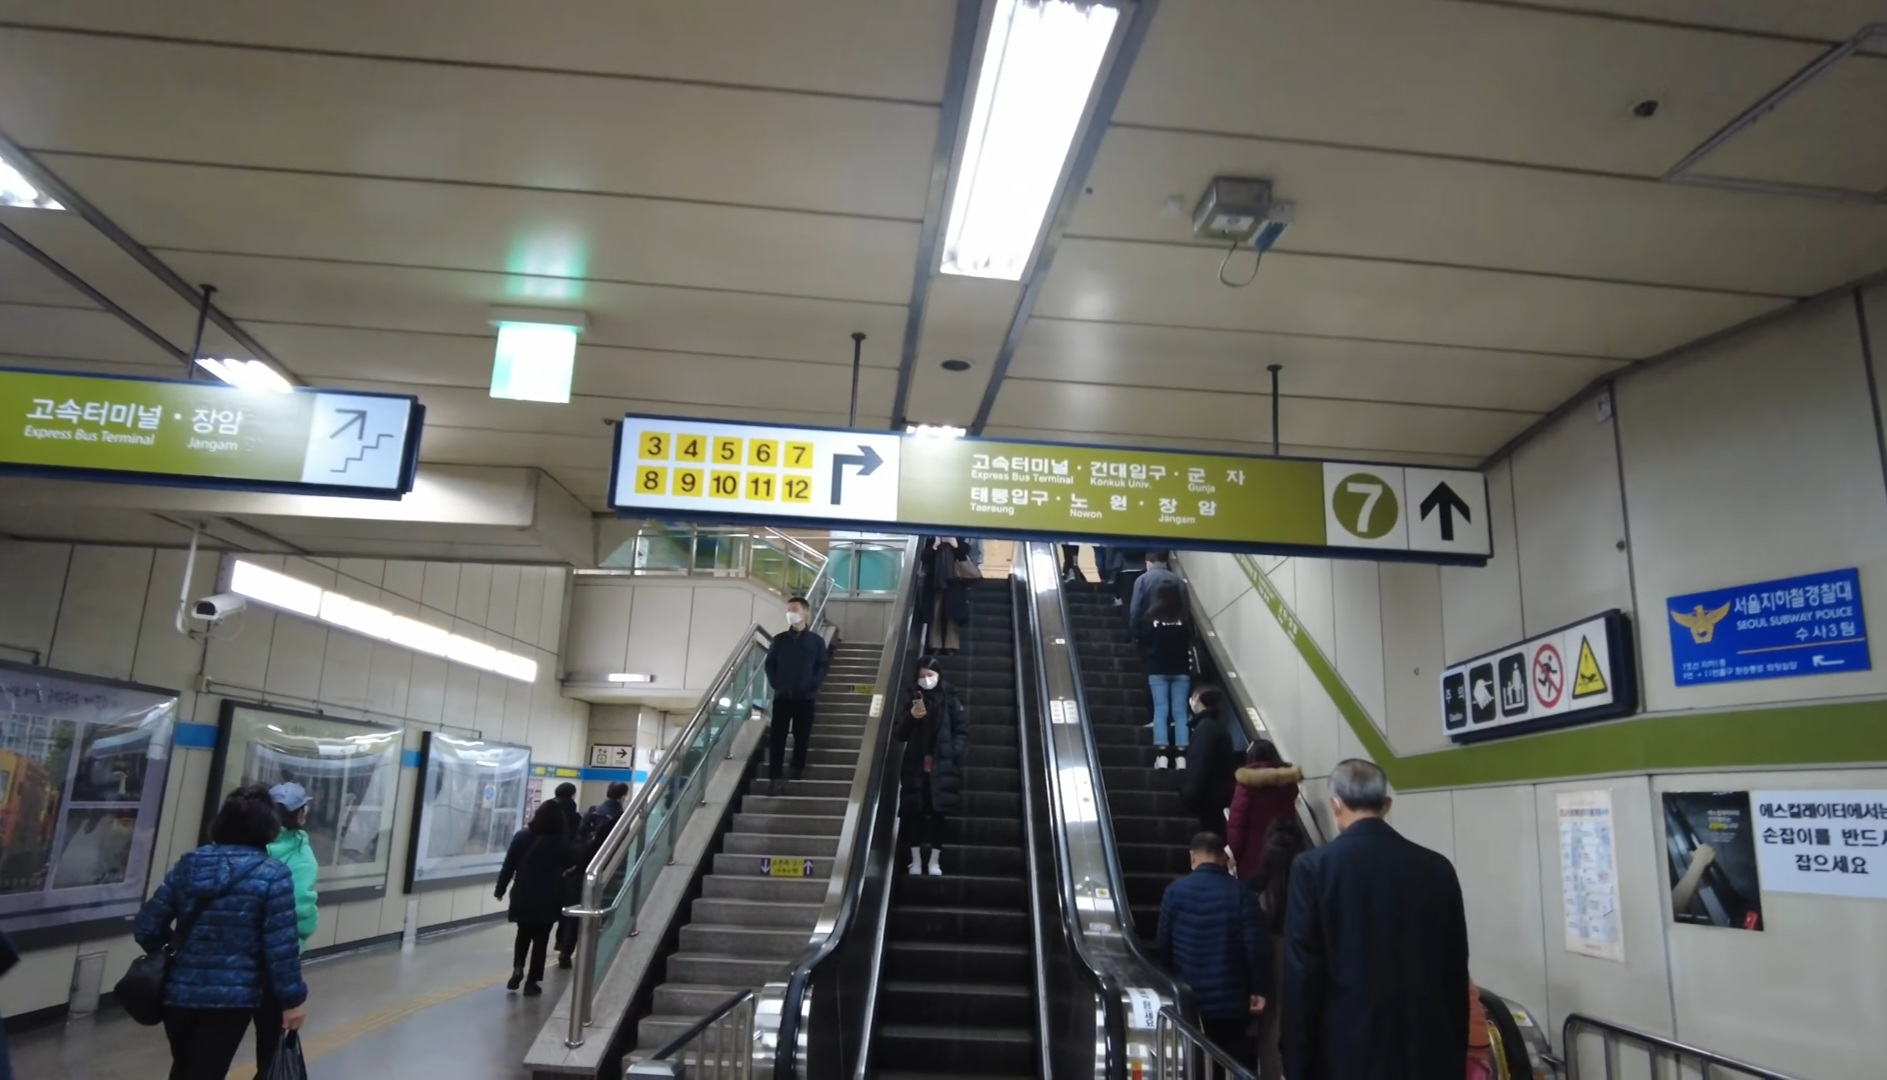signBoard: (609, 407, 1498, 574)
